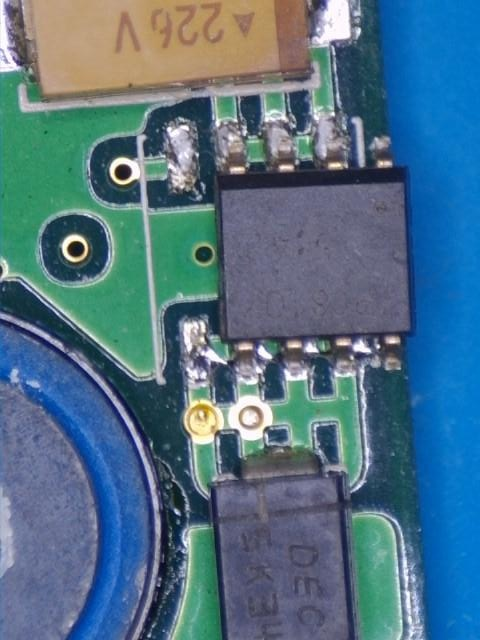pcb_defect: (213, 112, 412, 385), (179, 317, 382, 386)
